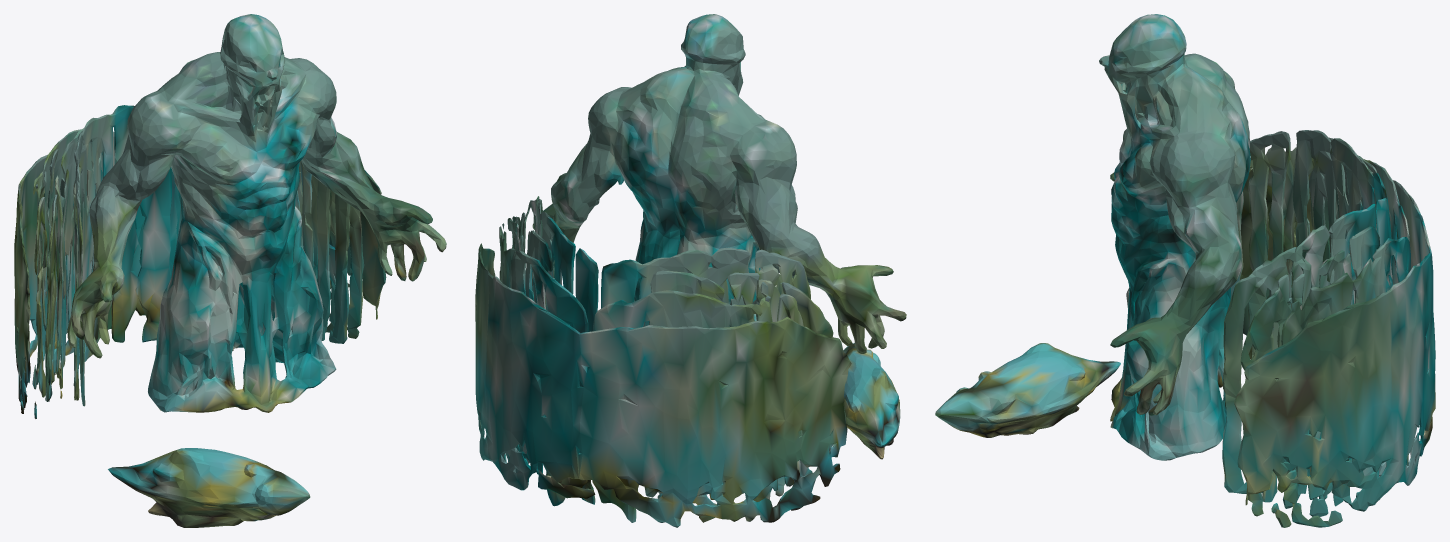
File: giantOctopus.glb
3 renders of one model, left to right at view 1: azimuth 30°, elevation 25°; view 2: azimuth 150°, elevation 25°; view 3: azimuth 270°, elevation 25°, orthographic. The views are drawn at different scales.
Visible parts, largest first — view 1: world; view 2: world; view 3: world.
Part boxes in pixels (x1,y1,x2,y2): world: [14, 14, 446, 527]; world: [475, 14, 906, 527]; world: [935, 14, 1435, 527].
Bounding box in the file's own units: 0.8854 × 1 × 0.9726.
